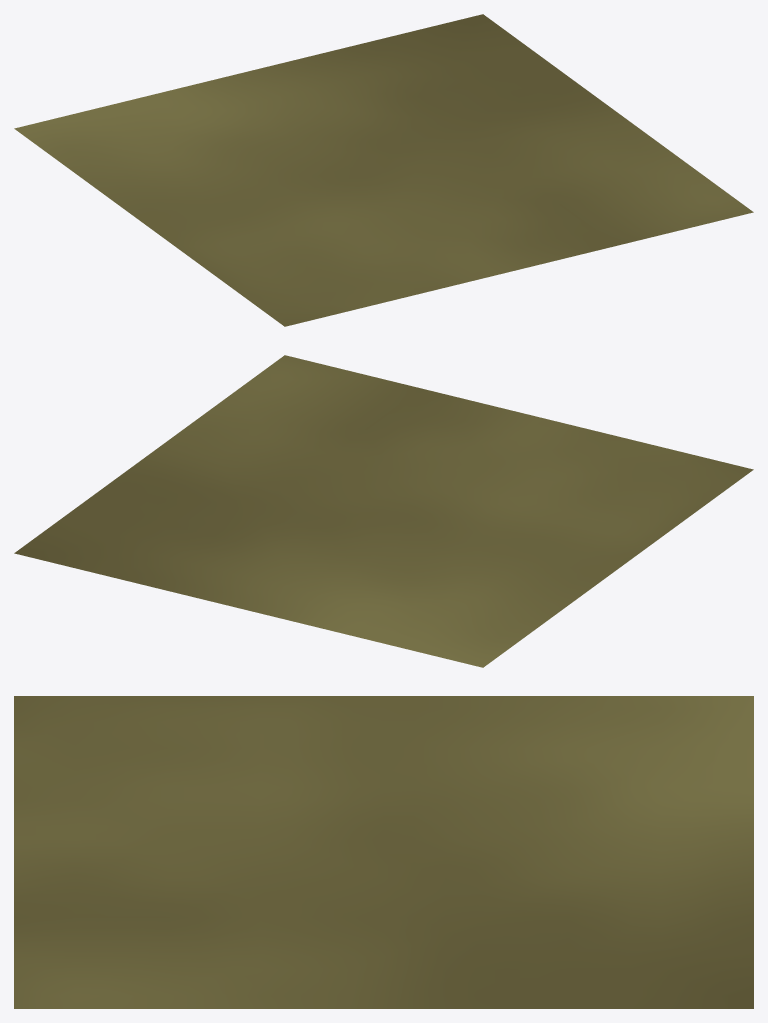
File: terrain_lod0_-4_3.obj
3 renders of one model, top to bottom at view 1: azimuth 30°, elevation 25°; view 2: azimuth 150°, elevation 25°; view 3: azimuth 270°, elevation 25°, orthographic. The views are drawn at different scales.
Visible parts, largest first — view 1: terrain_lod0_-4_3; view 2: terrain_lod0_-4_3; view 3: terrain_lod0_-4_3.
Boxes of the visible parts, x1,y1,x2,y2 form: terrain_lod0_-4_3: [14, 14, 753, 326]; terrain_lod0_-4_3: [14, 355, 753, 667]; terrain_lod0_-4_3: [14, 696, 753, 1008].
Size of the model in its own units: 48 by 0 by 48.
